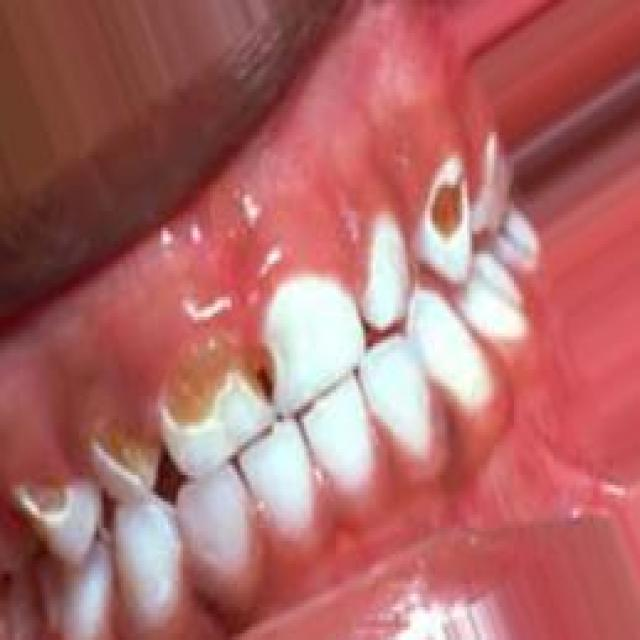caries: (150, 325, 252, 437), (9, 464, 100, 572), (87, 416, 170, 510), (414, 157, 480, 266), (234, 339, 291, 419)
